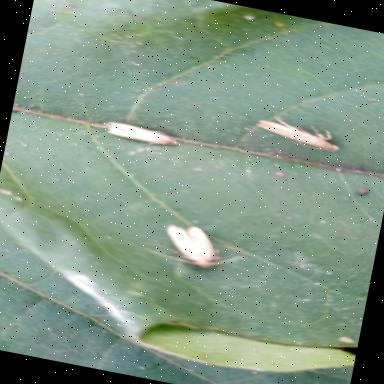pbw: (143, 219, 244, 274), (255, 114, 344, 154), (106, 120, 182, 150)
